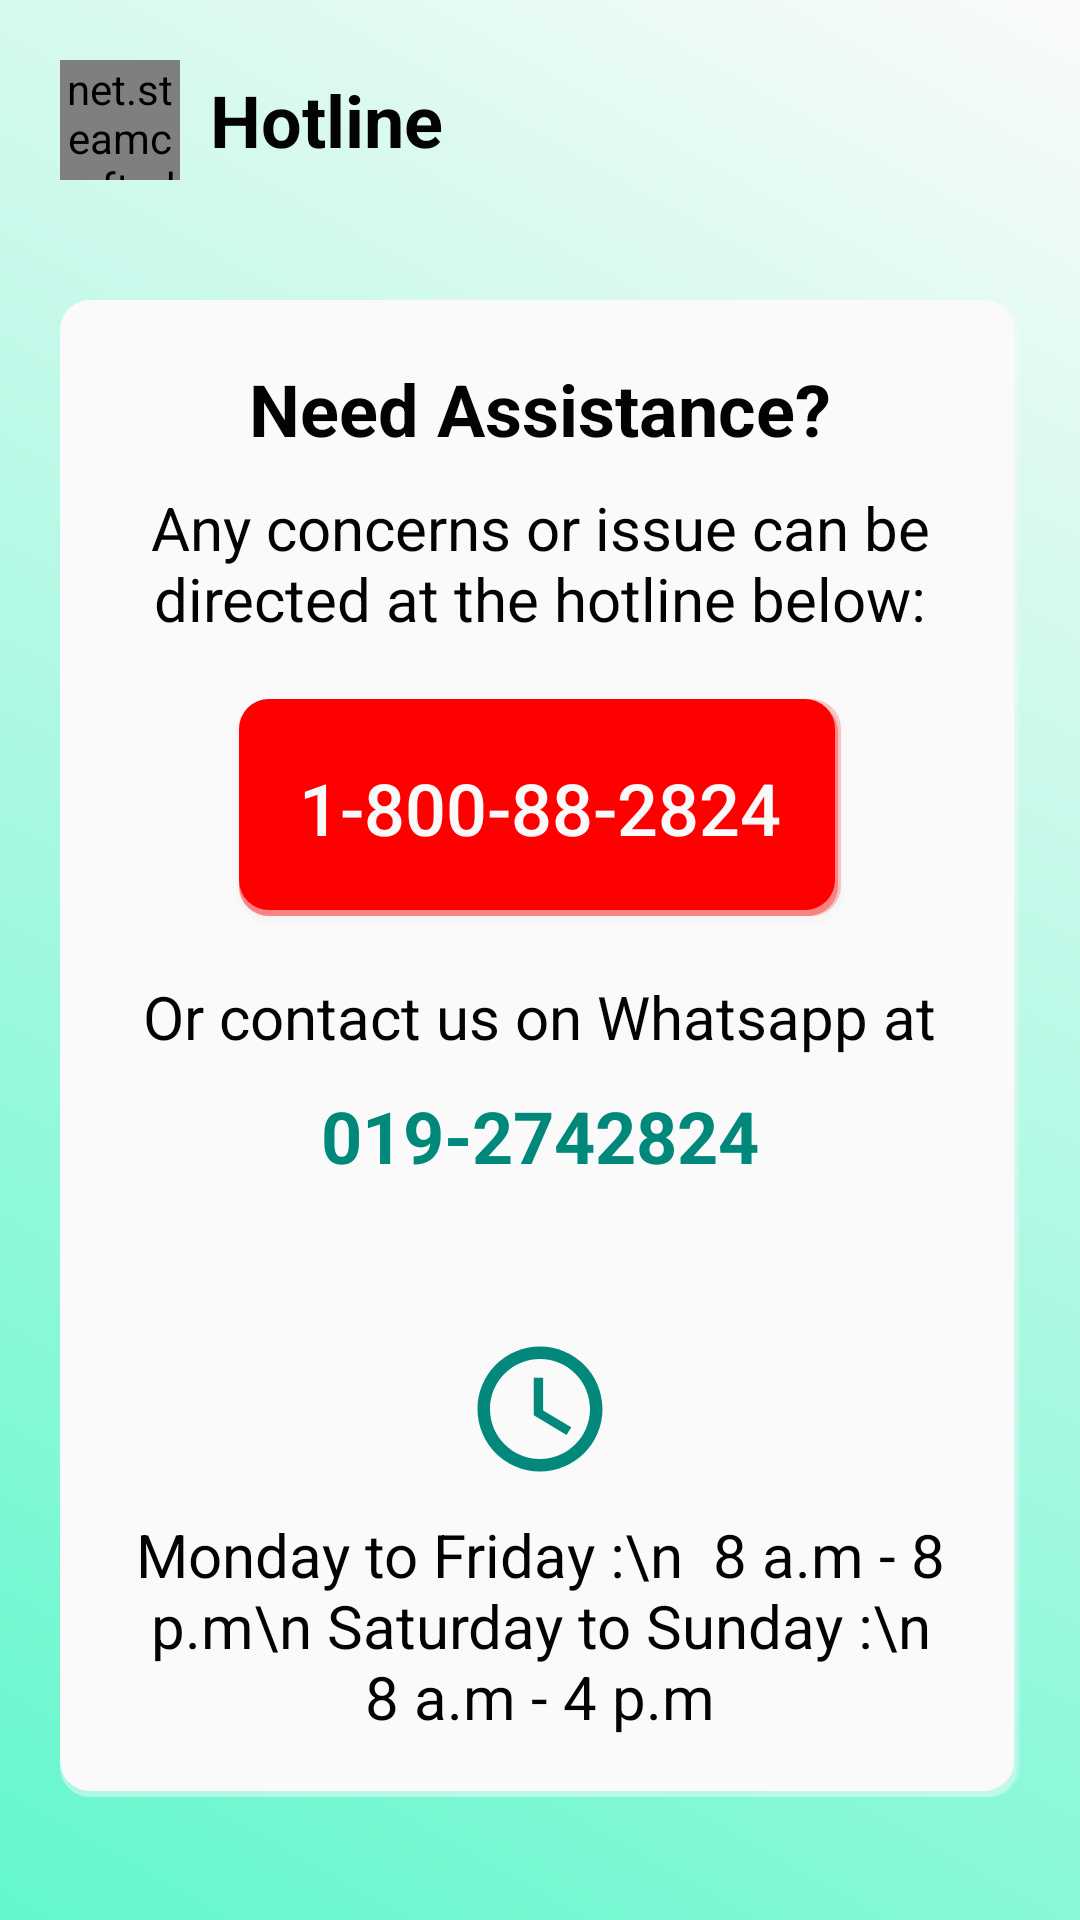

Named icons in this screenshot (1080*1920) and their centers, (x=x, y=y):
access time: (x=540, y=1409)
